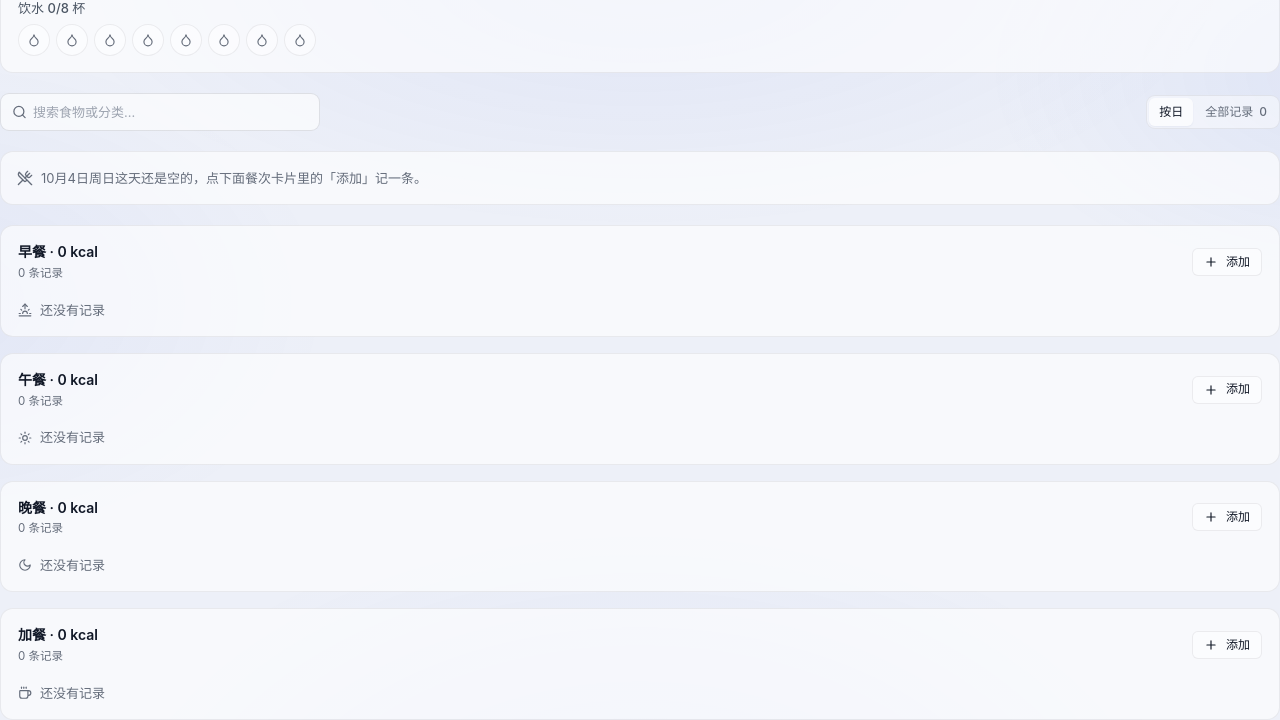
Test case: DietPage › 餐次卡片的「添加」会预设对应餐次
The image size is (1280, 720).
(page scrolled)
Click the button "添加" in the row of "晚餐 · 0 kcal". click: (1227, 517)
box: [1192,503,1262,531]
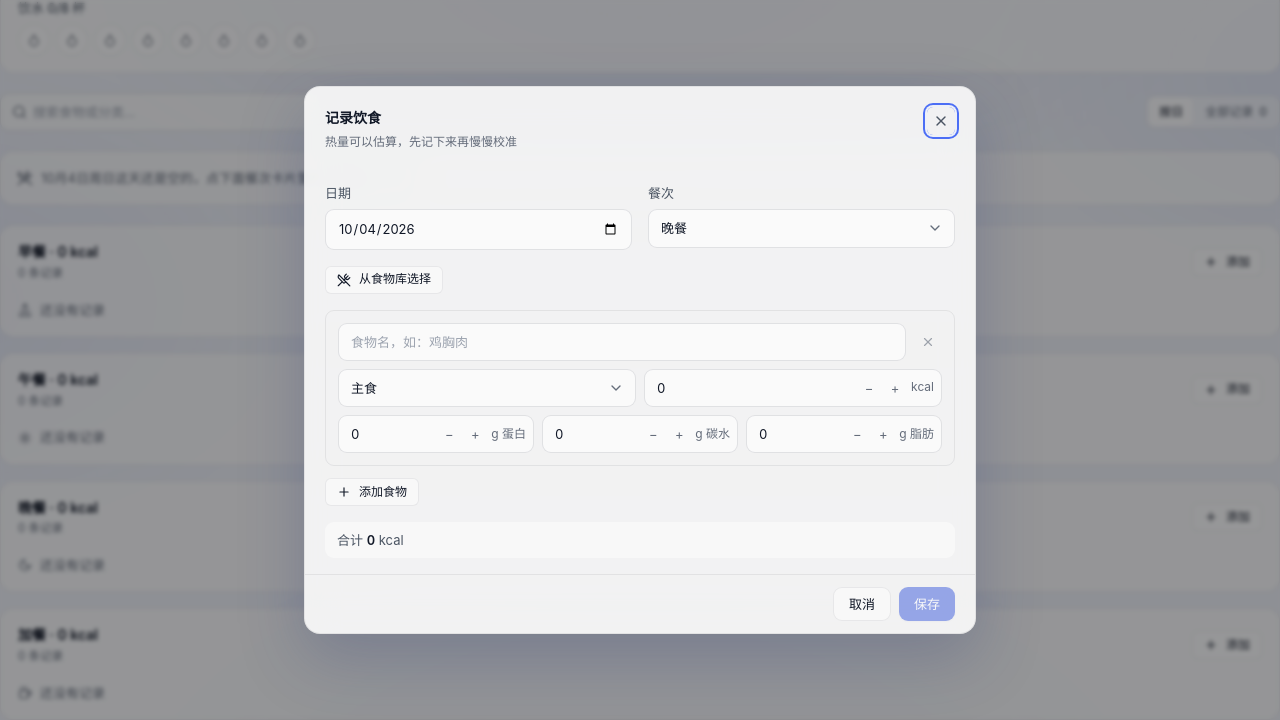
Now the dropdown labelled "餐次" shows "晚餐", box [648,209,955,248]
